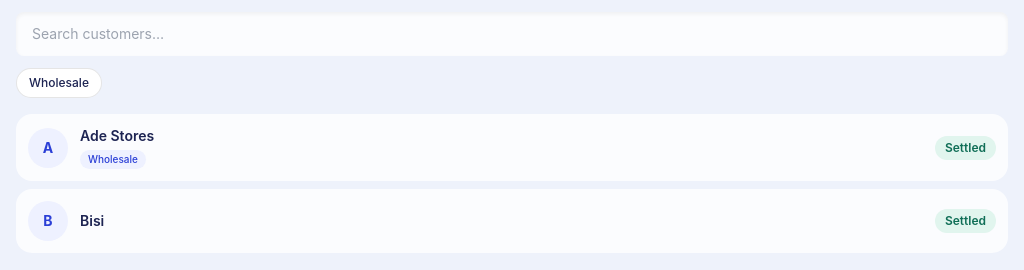
Test: Labels on the customers screen (§G) › filters the list by a label, and back again
Expected: the text "Ade Stores" is shown, [80, 127, 154, 144]
Expected: the text "Bisi" is shown, [80, 212, 104, 229]
Click the button "Wholesale": (59, 83) [16, 68, 102, 98]
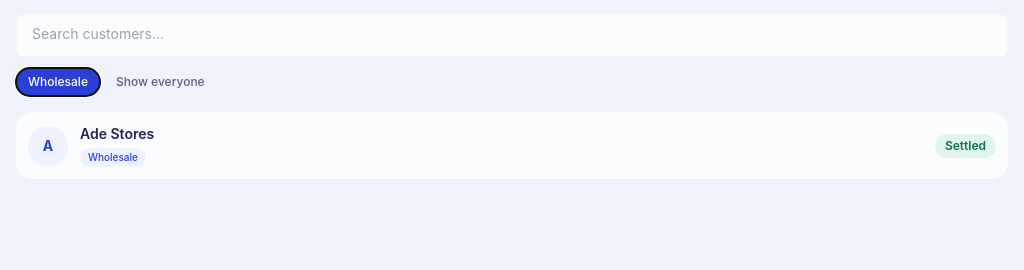
Expected: the element named "Filter by label" is shown, [16, 68, 213, 96]
Now the button "Bisi" is gone
Click the button "Show everyone": (160, 82) [108, 68, 213, 96]
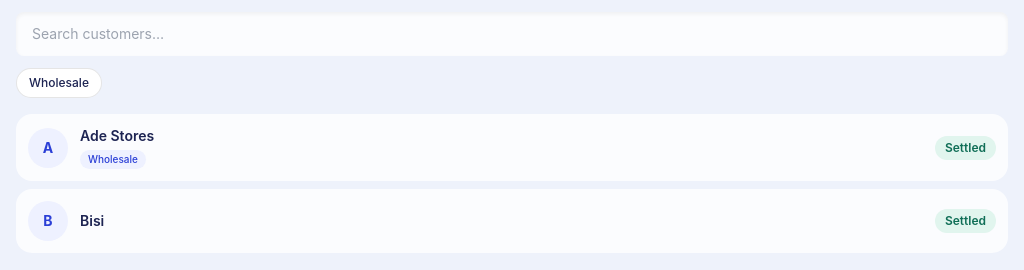
Now the text "Bisi" is shown, box [80, 212, 104, 229]
